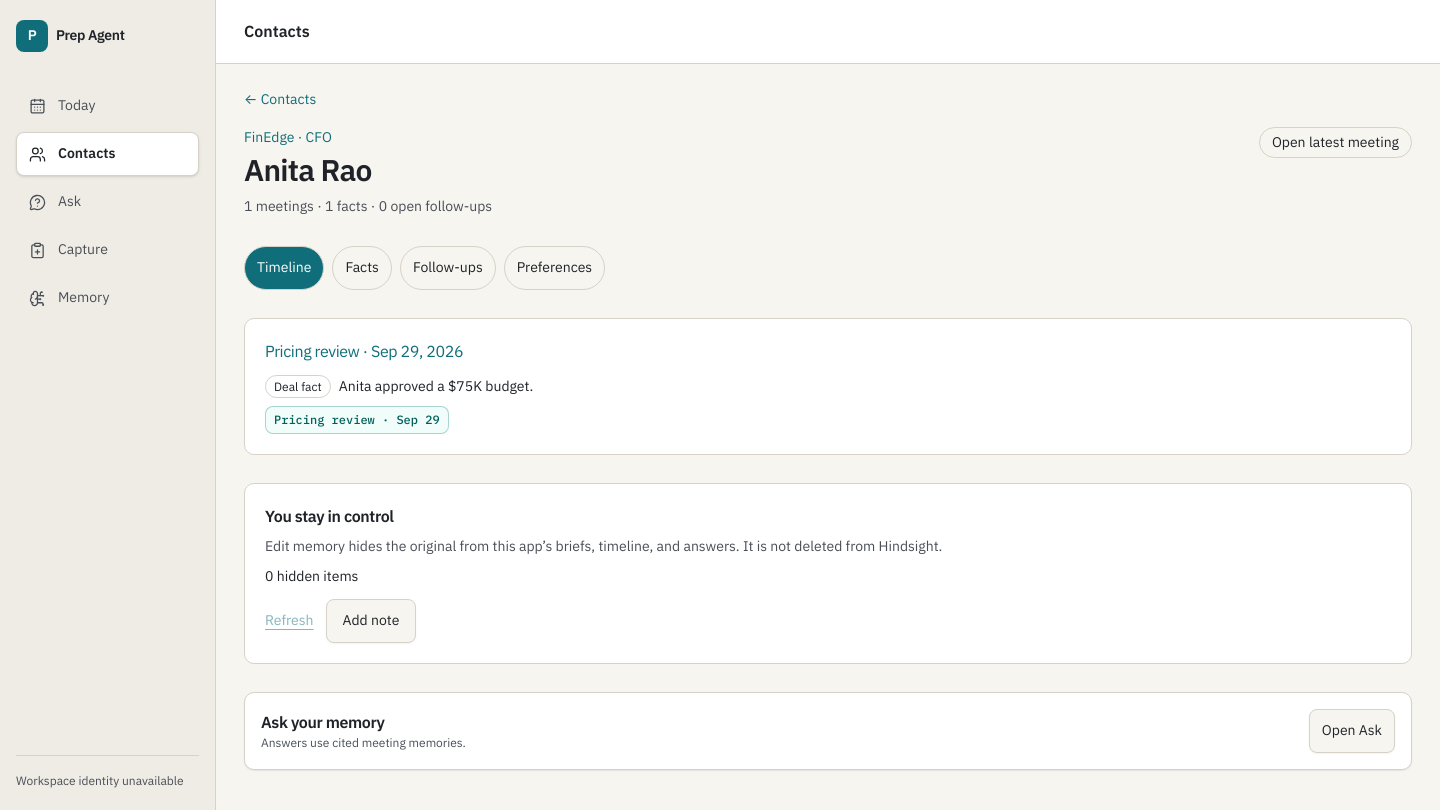
Test: Contact profile page › puts fact and follow-up controls in keyboard-reachable per-item menus
Click the button "Facts" at (362, 268), box [332, 246, 392, 290]
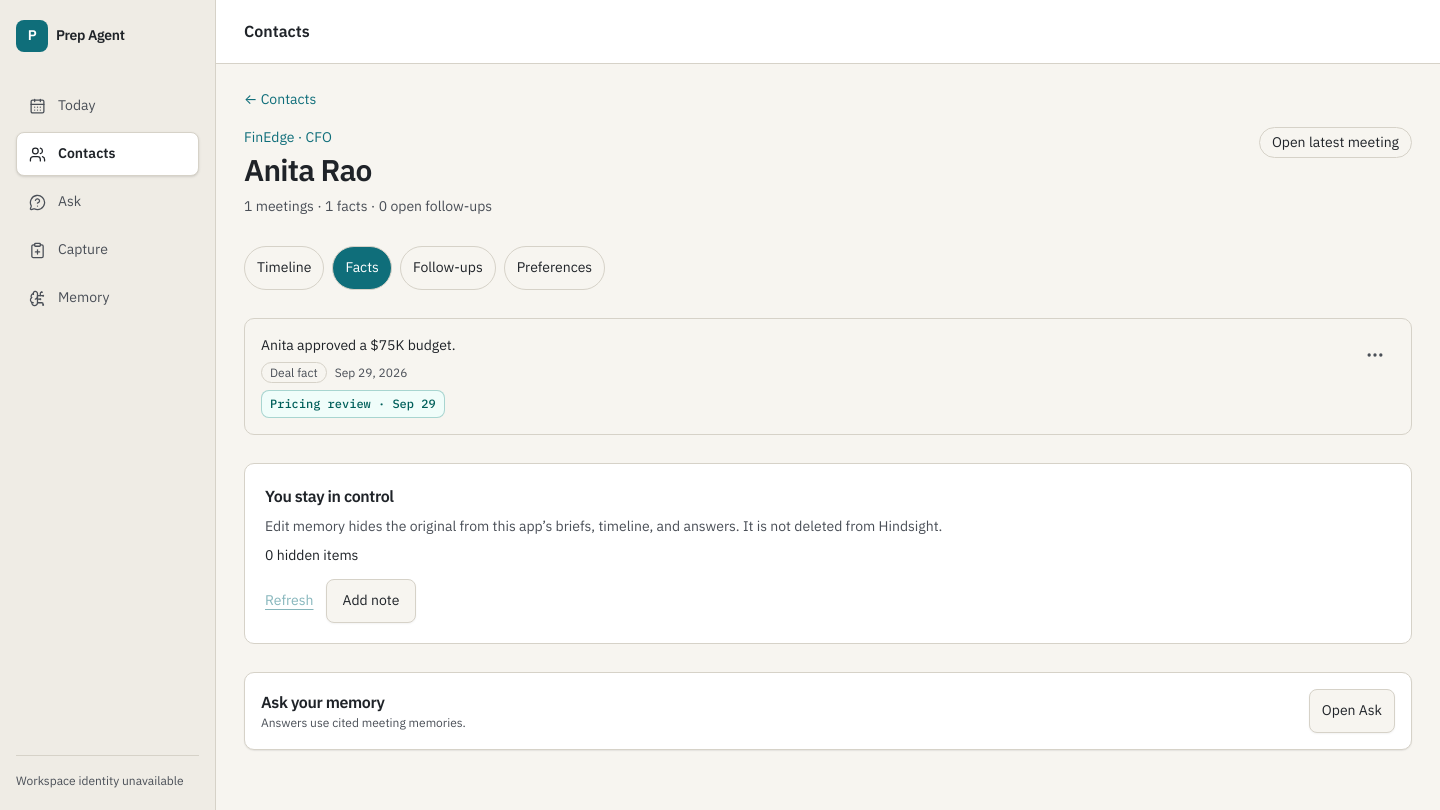
Click the heading named "Actions for Anita approved a $75K budget." at (1375, 355), box [1365, 345, 1385, 365]
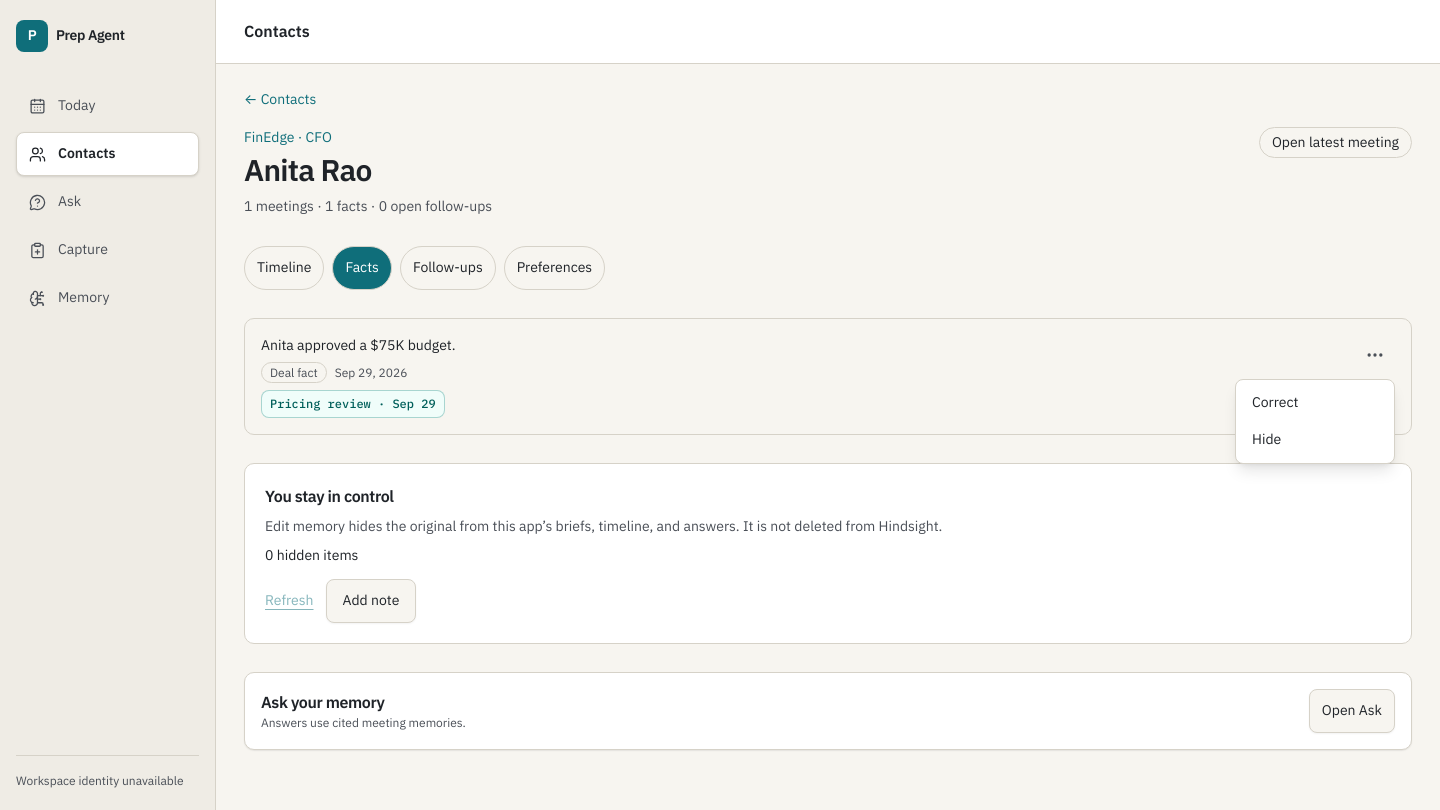
Result: the button "Correct" is shown at [1240, 384, 1390, 421]
Result: the button "Hide" is shown at [1240, 421, 1390, 459]
Click the button "Follow-ups" at (448, 268), box [400, 246, 496, 290]
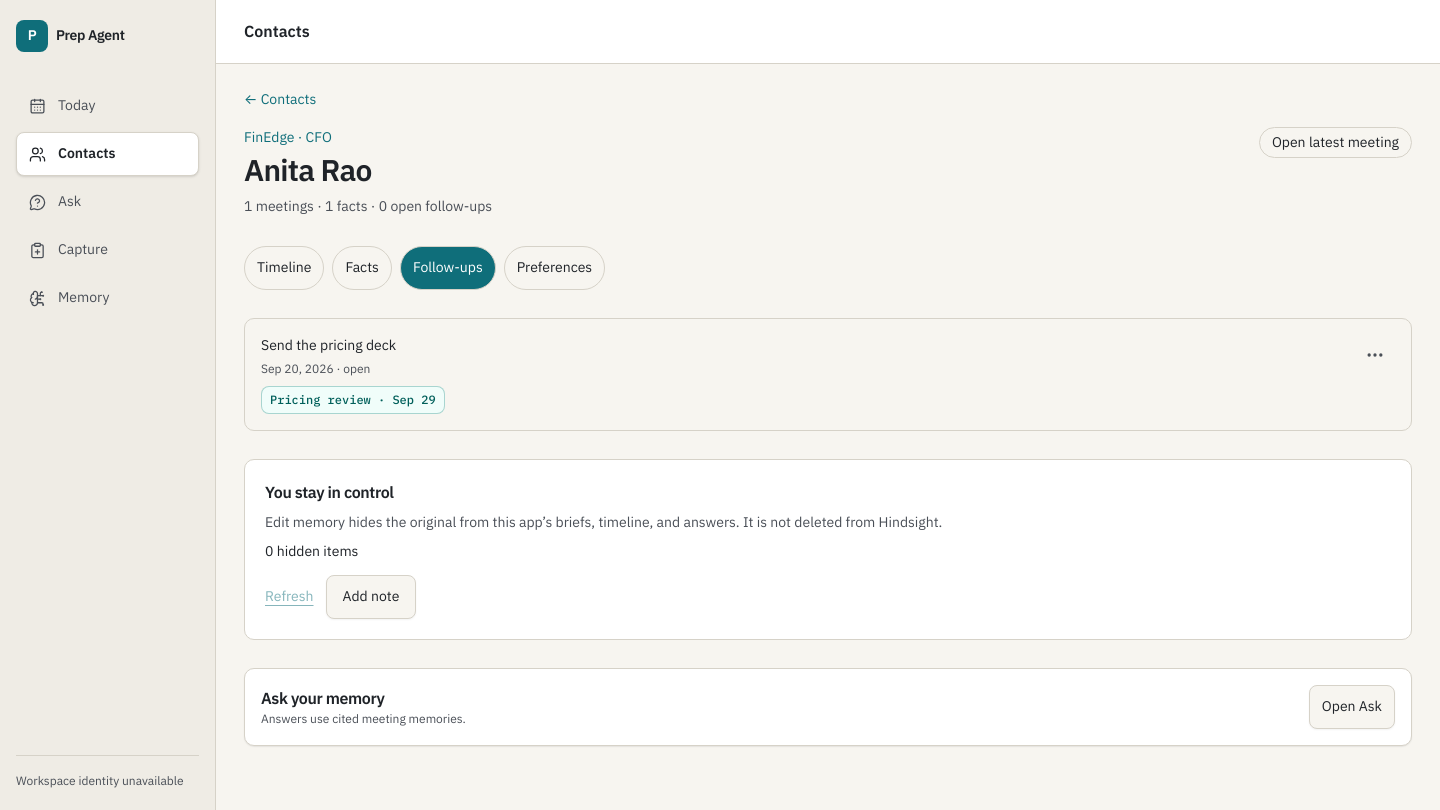
Click the heading named "Actions for Send the pricing deck" at (1375, 355), box [1365, 345, 1385, 365]
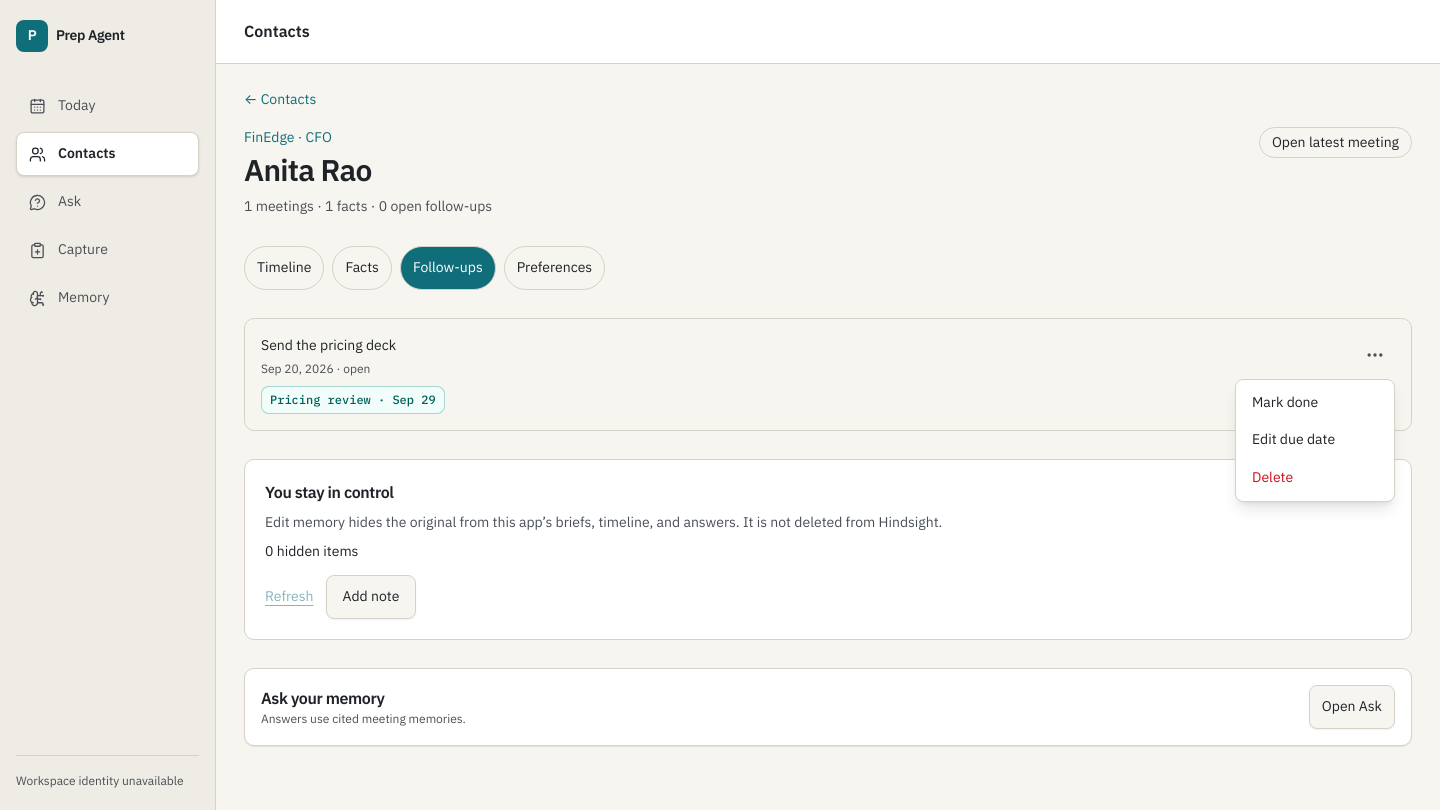
Result: the button "Mark done" is shown at [1240, 384, 1390, 421]
Result: the button "Edit due date" is shown at [1240, 421, 1390, 459]
Result: the button "Delete" is shown at [1240, 459, 1390, 497]
